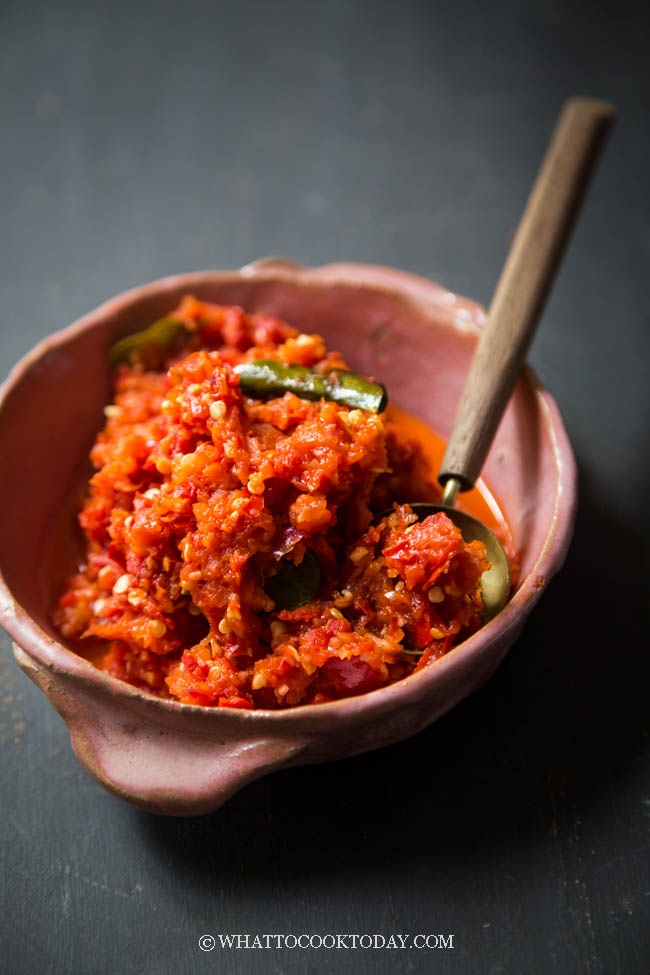sambal: (48, 296, 485, 705)
